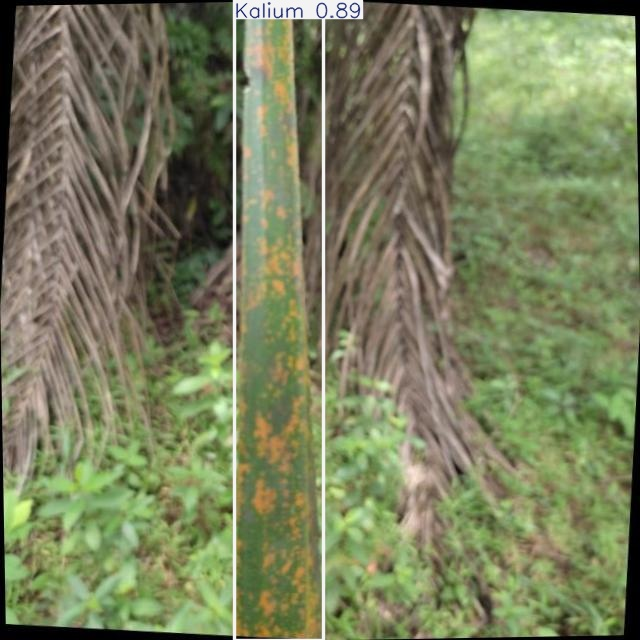Kalium: (234, 0, 323, 640)
